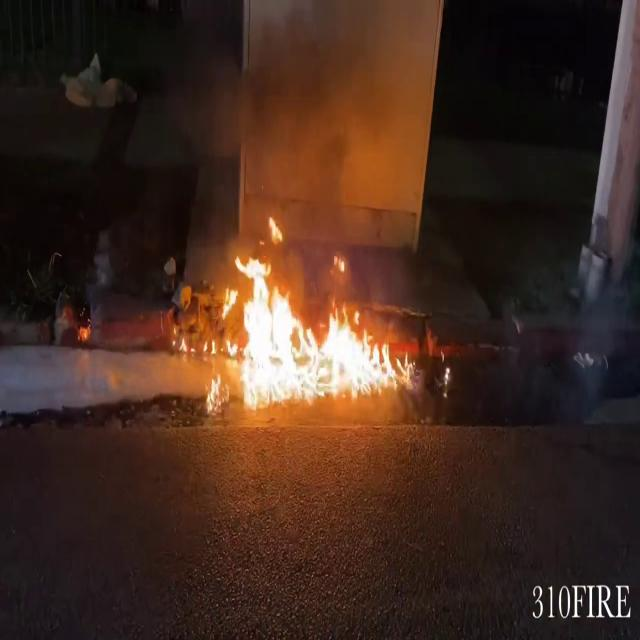Fire: (208, 212, 406, 409)
Smoke: (212, 0, 425, 233)
